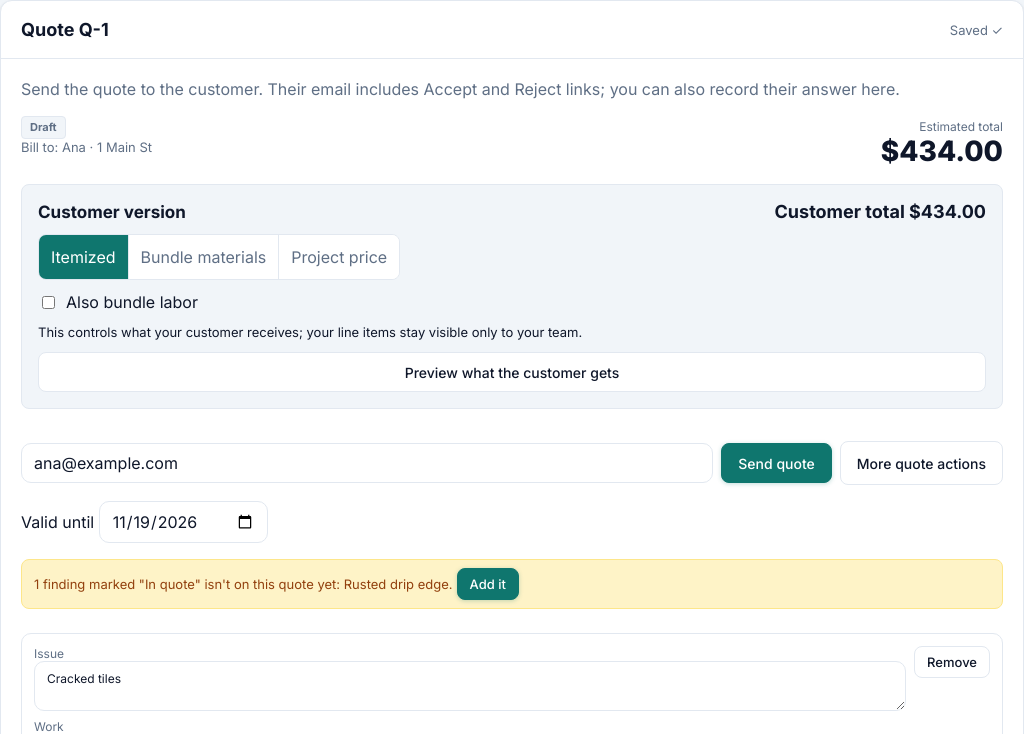
Test: QuotePanel Terms & notices › offers to add In-quote findings a draft is missing, and adds them with their prices
The width and height of the screenshot is (1024, 734).
Expected: the message with test id "quote-missing-findings" shows "Rusted drip edge", [344, 576, 449, 592]
Click the button "Add it": (488, 584) [456, 568, 519, 600]
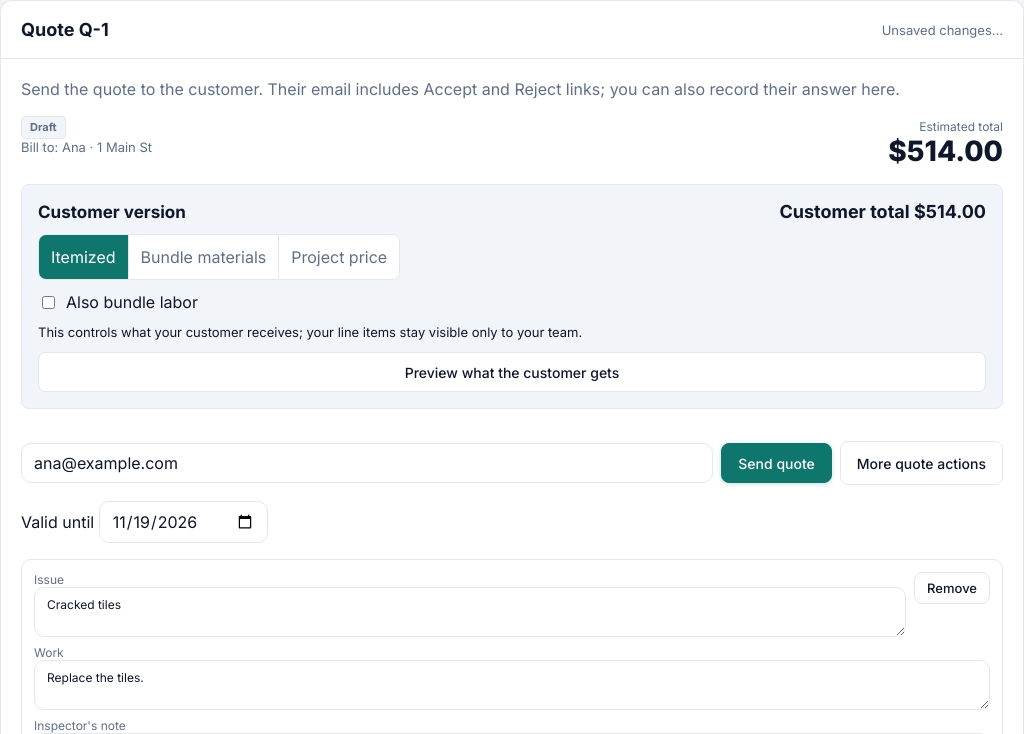
Expected: the message with test id "quote-missing-findings" is gone
Expected: the text "$514.00" is shown, [888, 134, 1003, 168]
